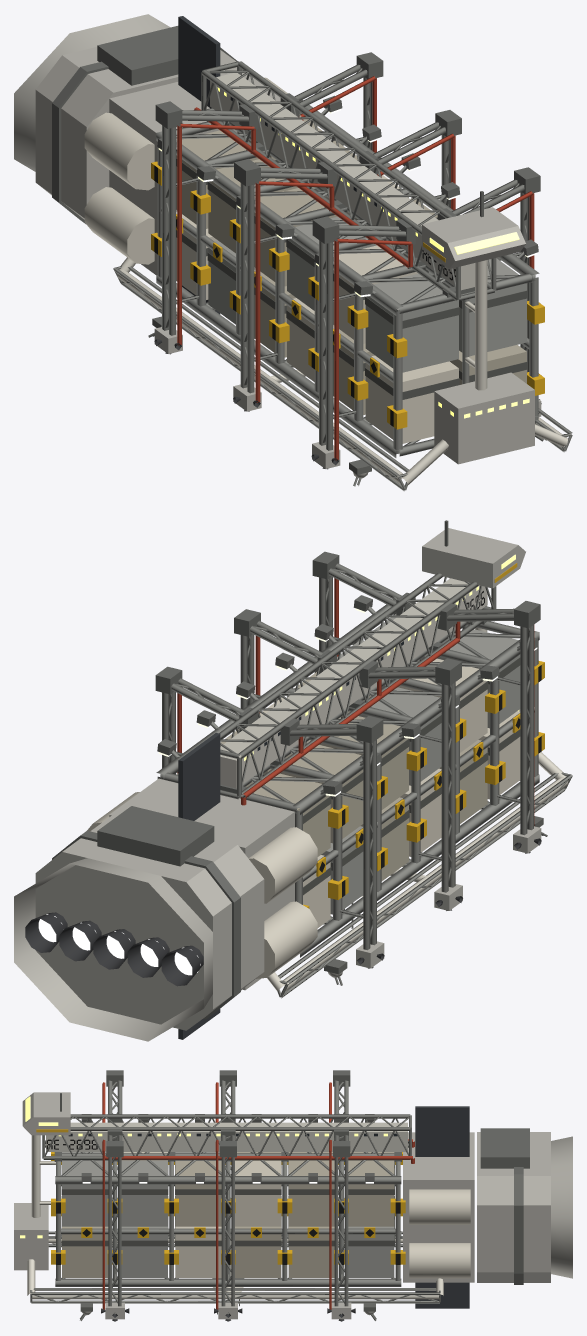
The model's file is crawler_civilian.glb.
The picture shows the model from 3 angles, top to bottom: view 1: azimuth 30°, elevation 25°; view 2: azimuth 150°, elevation 25°; view 3: azimuth 270°, elevation 25°; orthographic projection. The views are drawn at different scales.
Parts seen in each view (by area): view 1: trussFrame, spineFrame, engineBlock, spineDeck, crewCompartment, cargoCube21_body, trussClamp, serviceCore, engineSkirt, leg3_frame, linkCarrierStarboard, bridgeHull (+41 smaller); view 2: engineBlock, trussFrame, spineFrame, spineDeck, engineSkirt, serviceCore, engineHousing, bridgeHull, leg3_frame, linkCarrierStarboard, leg1_frame, leg5_frame (+34 smaller); view 3: trussFrame, engineBlock, spineDeck, spineFrame, serviceCore, linkCarrierPort, engineSkirt, radiator0, cargoCube8_body, cargoCube16_body, cargoCube0_body, cargoCube4_body (+41 smaller).
Part boxes in pixels (x1,y1,x2,y2): trussFrame: (156, 100, 539, 457); spineFrame: (201, 61, 496, 301); engineBlock: (35, 47, 236, 219); spineDeck: (210, 73, 487, 290); crewCompartment: (434, 372, 534, 464); cargoCube21_body: (365, 273, 458, 372); trussClamp: (151, 161, 544, 429); serviceCore: (109, 67, 280, 275); engineSkirt: (14, 14, 170, 171); leg3_frame: (240, 167, 327, 393); linkCarrierStarboard: (113, 266, 408, 491); bridgeHull: (422, 207, 525, 269); engineBlock: (35, 814, 264, 1030); trussFrame: (156, 599, 539, 957); spineFrame: (219, 573, 496, 799); spineDeck: (220, 578, 487, 788); engineSkirt: (14, 858, 212, 1041); serviceCore: (109, 778, 294, 990); engineHousing: (97, 806, 214, 866); bridgeHull: (422, 528, 525, 588); leg3_frame: (368, 666, 455, 892); linkCarrierStarboard: (277, 772, 572, 998); leg1_frame: (289, 724, 376, 950); leg5_frame: (447, 608, 533, 835); trussFrame: (55, 1152, 401, 1286); engineBlock: (477, 1132, 550, 1282); spineDeck: (46, 1122, 407, 1151); spineFrame: (42, 1114, 411, 1159); serviceCore: (403, 1132, 474, 1282); linkCarrierPort: (30, 1288, 440, 1303); engineSkirt: (551, 1136, 572, 1278); radiator0: (415, 1106, 469, 1156); cargoCube8_body: (235, 1161, 281, 1226); cargoCube16_body: (121, 1161, 167, 1226); cargoCube0_body: (348, 1161, 394, 1226); cargoCube4_body: (288, 1161, 334, 1226).
Size of the model in its own units: 153 by 200 by 454.
